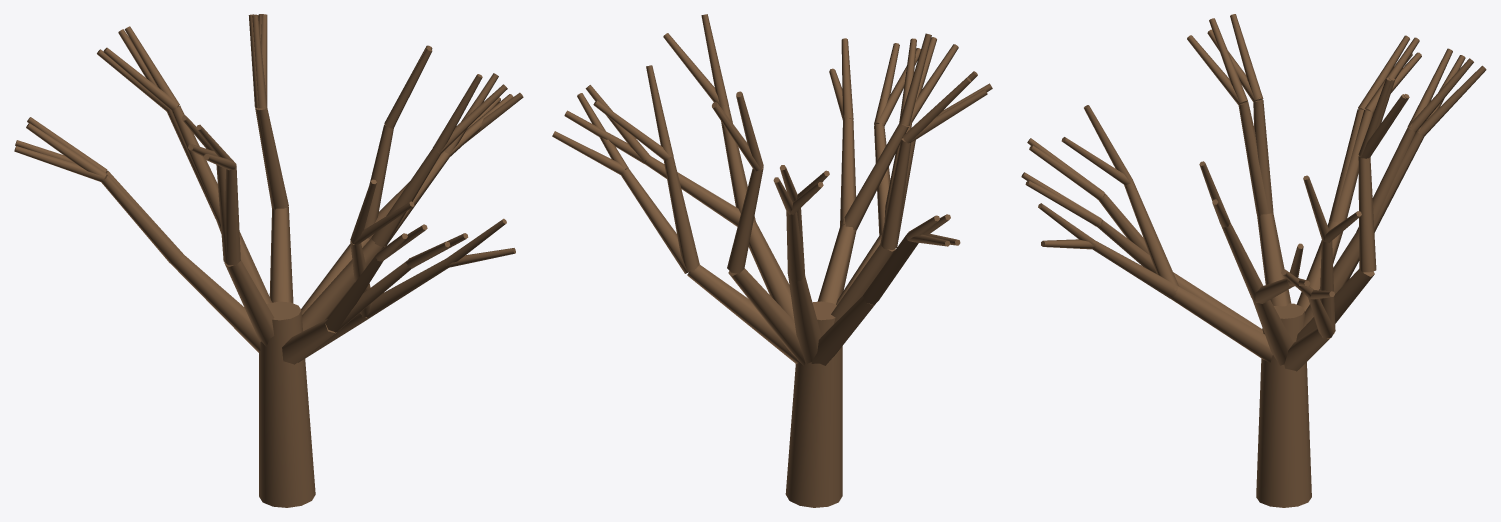
Rendered from mezalmacska-tel.glb.
The picture shows the model from 3 angles, left to right: view 1: azimuth 30°, elevation 25°; view 2: azimuth 150°, elevation 25°; view 3: azimuth 270°, elevation 25°; orthographic projection.
Visible parts, largest first — view 1: torzs, gally-4-1, gally-2-2 (×2), gally-6-1, gally-3-2 (×2), gally-0-2 (×2), gally-0-1, gally-3-1, gally-5-3 (×2), gally-4-2, gally-4-3 (×2), gally-0-3 (×2) (+10 smaller); view 2: torzs, gally-7-2 (×2), gally-1-2 (×2), gally-7-3 (×4), gally-0-3 (×4), gally-0-2 (×2), gally-7-1, gally-1-3 (×3), gally-6-1, gally-2-3 (×3), gally-0-1, gally-5-1 (+10 smaller); view 3: torzs, gally-1-2 (×2), gally-3-2 (×2), gally-5-3 (×3), gally-3-3 (×3), gally-1-1, gally-4-2 (×2), gally-5-2 (×2), gally-6-2 (×2), gally-2-2 (×2), gally-3-1, gally-0-2 (×2) (+12 smaller).
Part boxes in pixels (x1,y1,x2,y2): torzs: (259,301,315,507); gally-4-1: (170,254,260,352); gally-2-2 (×2): (325,256,411,332); gally-6-1: (269,207,293,303); gally-3-2 (×2): (216,165,240,265); gally-0-2 (×2): (371,148,449,247); gally-0-1: (302,238,384,331); gally-3-1: (224,260,274,346); gally-5-3 (×2): (103,26,179,110); gally-4-2: (101,174,182,264); gally-4-3 (×2): (14,123,106,181); gally-0-3 (×2): (433,74,507,153); torzs: (785,301,842,507); gally-7-2 (×2): (621,156,699,273); gally-1-2 (×2): (840,118,908,229); gally-7-3 (×4): (552,65,673,174); gally-0-3 (×4): (564,14,728,163); gally-0-2 (×2): (644,105,755,226); gally-7-1: (687,264,800,363); gally-1-3 (×3): (841,33,931,125); gally-6-1: (728,268,805,365); gally-2-3 (×3): (874,43,958,125); gally-0-1: (748,221,794,320); gally-5-1: (788,276,821,364); torzs: (1256,303,1311,507); gally-1-2 (×2): (1092,180,1179,298); gally-3-2 (×2): (1238,99,1273,215); gally-5-3 (×3): (1407,48,1486,136); gally-3-3 (×3): (1187,14,1263,105); gally-1-1: (1170,286,1272,362); gally-4-2 (×2): (1329,109,1372,222); gally-5-2 (×2): (1356,127,1424,233); gally-6-2 (×2): (1358,156,1376,272); gally-2-2 (×2): (1097,193,1156,273); gally-3-1: (1257,213,1291,306); gally-0-2 (×2): (1221,223,1293,303).
Bounding box in the file's own units: 3.81 × 3.57 × 3.5.
